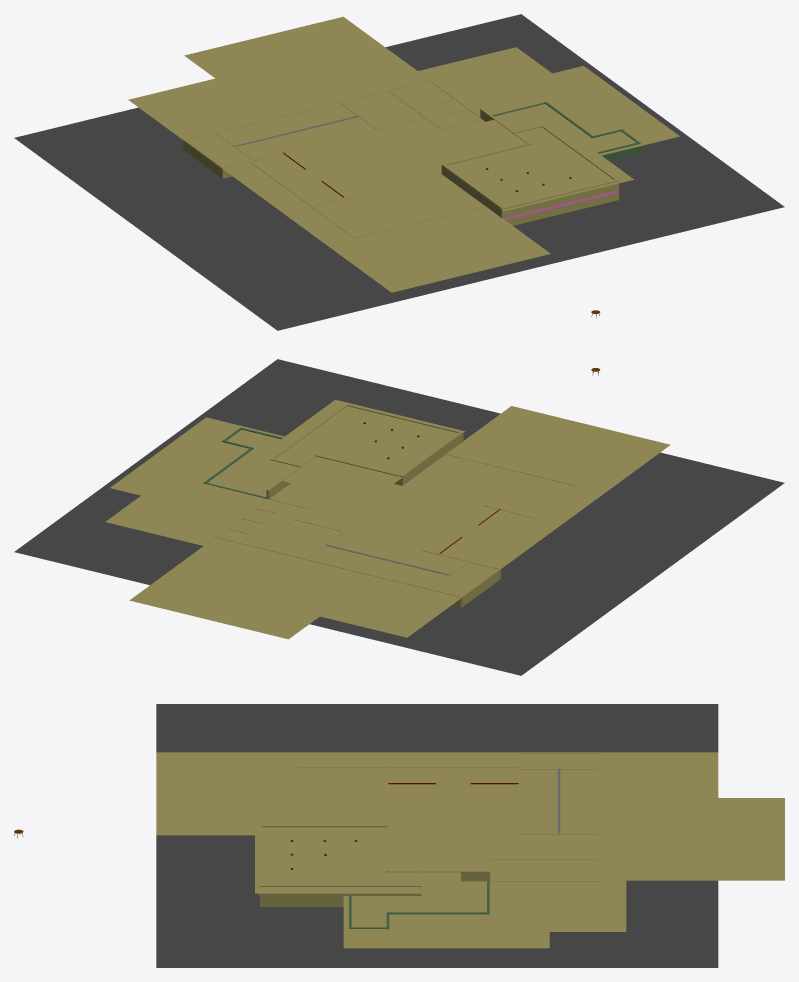
File: map.fbx
3 renders of one model, top to bottom at view 1: azimuth 30°, elevation 25°; view 2: azimuth 150°, elevation 25°; view 3: azimuth 270°, elevation 25°, orthographic. The views are drawn at different scales.
Visible parts, largest first — view 1: Plane, Plane.003, Plane.004, Plane.007, Plane.006, Plane.005, Cube.004, Cube.002; view 2: Plane, Plane.003, Plane.004, Plane.007, Plane.006, Plane.005, Cube.002, Cube.010; view 3: Plane, Plane.003, Plane.004, Plane.007, Plane.006, Plane.005, Cube.003, Cube.034, Cube.002.
Boxes of the visible parts, <box> form: Plane: <box>14,14,784,330</box>; Plane.003: <box>128,78,550,292</box>; Plane.004: <box>184,16,484,191</box>; Plane.007: <box>408,109,633,211</box>; Plane.006: <box>418,47,612,129</box>; Plane.005: <box>528,66,679,155</box>; Cube.004: <box>500,180,618,225</box>; Cube.002: <box>441,163,503,216</box>; Plane: <box>14,359,784,675</box>; Plane.003: <box>320,406,670,637</box>; Plane.004: <box>129,483,474,639</box>; Plane.007: <box>239,399,464,501</box>; Plane.006: <box>105,451,279,545</box>; Plane.005: <box>110,417,284,495</box>; Cube.002: <box>400,432,462,485</box>; Cube.010: <box>216,536,462,607</box>; Plane: <box>156,704,718,967</box>; Plane.003: <box>156,752,718,835</box>; Plane.004: <box>388,798,784,880</box>; Plane.007: <box>255,826,460,893</box>; Plane.006: <box>420,879,626,931</box>; Plane.005: <box>343,896,549,948</box>; Cube.003: <box>260,884,421,906</box>; Cube.034: <box>387,870,490,880</box>; Cube.002: <box>261,824,388,827</box>.
Size of the model in its own units: 46550 by 1957 by 57474.
